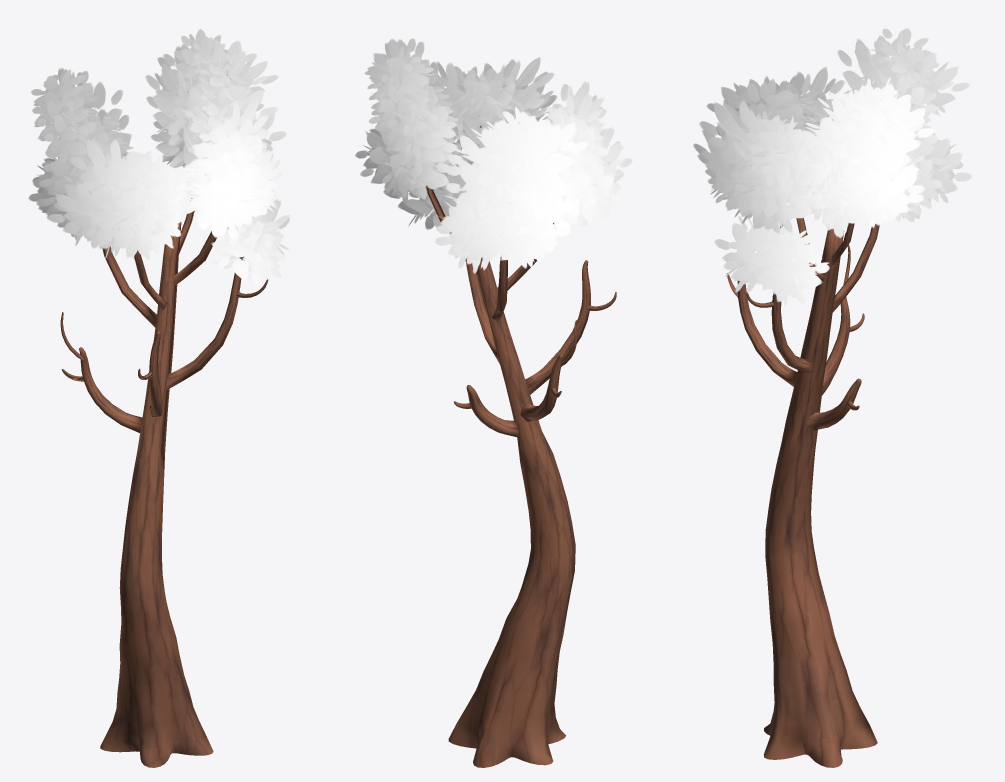
The model's file is tree-4.glb.
3 views of the same model, side by side, from view 1: azimuth 30°, elevation 25°; view 2: azimuth 150°, elevation 25°; view 3: azimuth 270°, elevation 25° (orthographic). The views are drawn at different scales.
Visible parts, largest first — view 1: tree_026; view 2: tree_026; view 3: tree_026.
Boxes of the visible parts, x1,y1,x2,y2 form: tree_026: (28,29,290,767); tree_026: (355,38,632,767); tree_026: (693,28,971,767).
Size of the model in its own units: 3.83 by 9.44 by 3.76.
2 materials, 2 textured.
